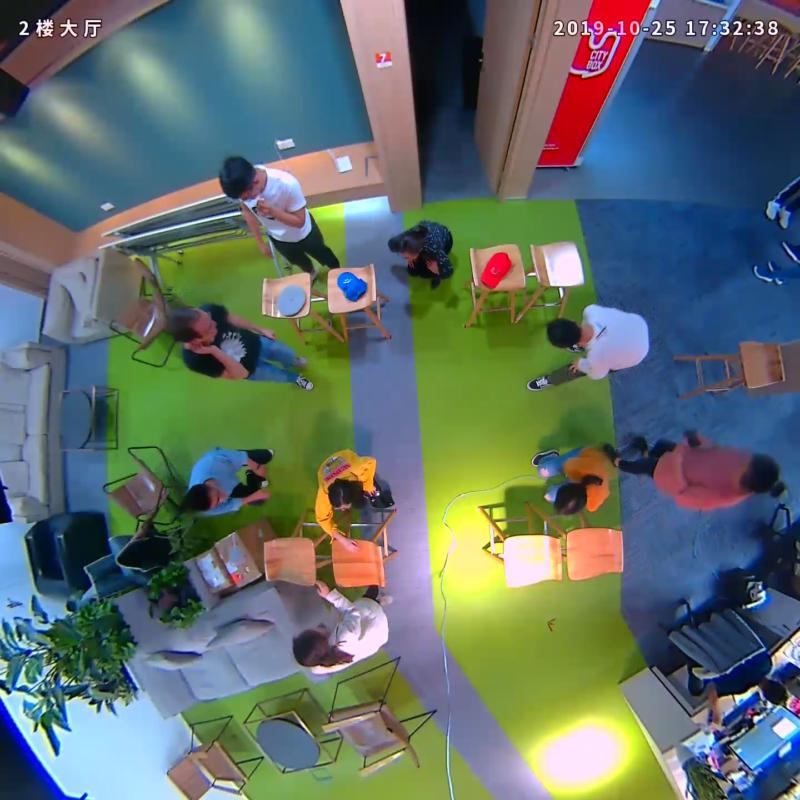head: (728, 448, 786, 501), (212, 152, 263, 207), (164, 303, 223, 348), (288, 624, 336, 672), (546, 477, 594, 519), (324, 477, 370, 519), (178, 474, 221, 517), (544, 312, 587, 354), (394, 230, 429, 268)
